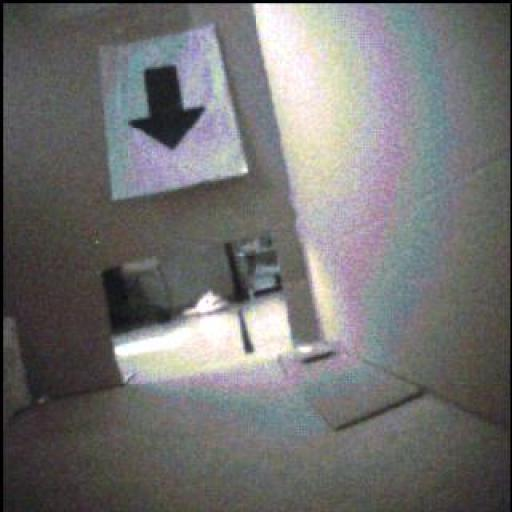arrow: (131, 67, 206, 150)
